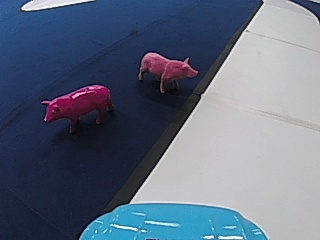pig: (38, 80, 114, 132), (135, 49, 198, 92)
